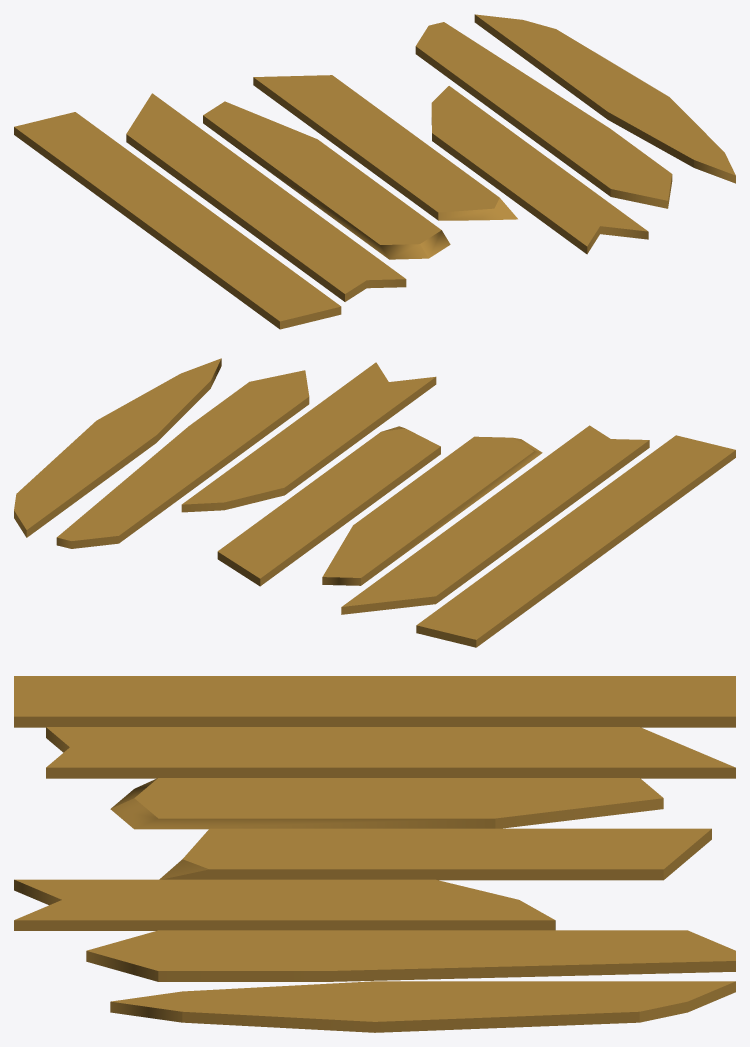
Rendered from planks.fbx.
The picture shows the model from 3 angles, top to bottom: view 1: azimuth 30°, elevation 25°; view 2: azimuth 150°, elevation 25°; view 3: azimuth 270°, elevation 25°; orthographic projection. The views are drawn at different scales.
Visible parts, largest first — view 1: pasted__pasted__pCube1 (×2), pasted__pCube1 (×2), pasted__pasted__pasted__pCube1 (×2), pCube1; view 2: pasted__pasted__pCube1 (×2), pasted__pCube1 (×2), pasted__pasted__pasted__pCube1 (×2), pCube1; view 3: pasted__pasted__pCube1 (×2), pasted__pCube1 (×2), pasted__pasted__pasted__pCube1 (×2), pCube1.
Part boxes in pixels (x1,y1,x2,y2): pasted__pasted__pCube1 (×2): (14, 86, 648, 329); pasted__pCube1 (×2): (126, 75, 517, 301); pasted__pasted__pasted__pCube1 (×2): (415, 14, 735, 208); pCube1: (203, 101, 450, 259); pasted__pasted__pCube1 (×2): (181, 362, 735, 647); pasted__pCube1 (×2): (217, 425, 649, 614); pasted__pasted__pasted__pCube1 (×2): (14, 358, 309, 548); pCube1: (322, 436, 542, 585); pasted__pasted__pCube1 (×2): (14, 676, 735, 930); pasted__pCube1 (×2): (46, 727, 735, 880); pasted__pasted__pasted__pCube1 (×2): (86, 930, 735, 1032); pCube1: (110, 778, 663, 829).
Size of the model in its own units: 34 by 0.5 by 30.
